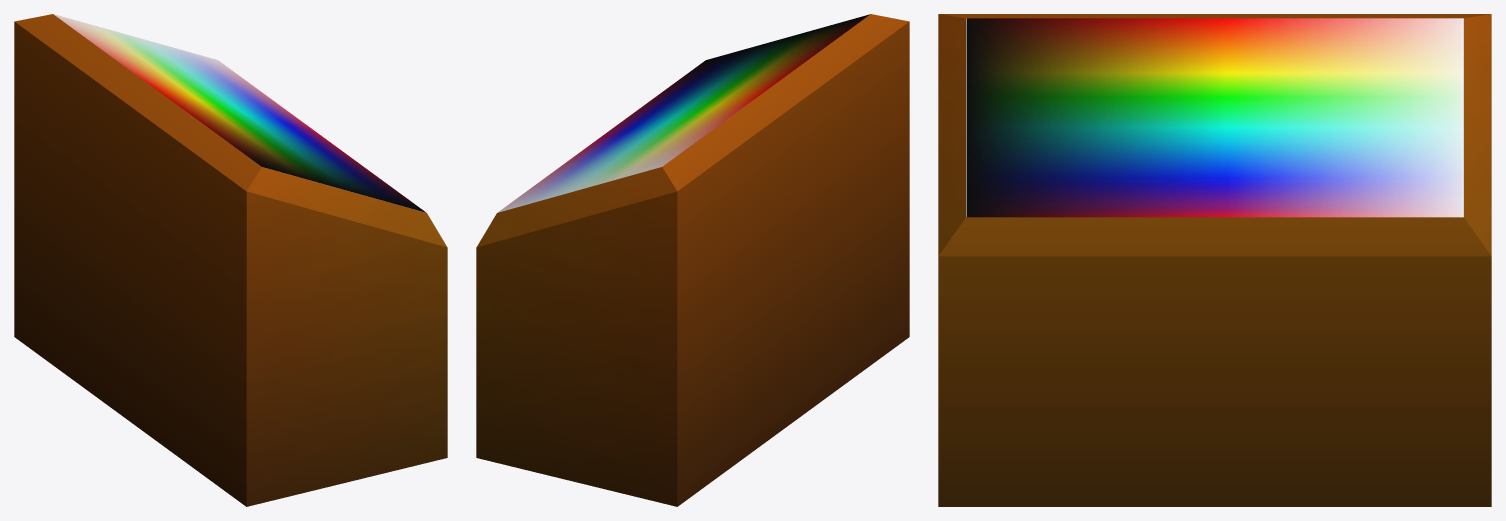
The model's file is exhibit-kiosk-1.FBX.
3 views of the same model, side by side, from view 1: azimuth 30°, elevation 25°; view 2: azimuth 150°, elevation 25°; view 3: azimuth 270°, elevation 25° (orthographic). The views are drawn at different scales.
Parts seen in each view (by area): view 1: kiosk; view 2: kiosk; view 3: kiosk.
Boxes of the visible parts, left/top/right/bottom form: kiosk: left=14, top=14, right=447, bottom=506; kiosk: left=476, top=14, right=909, bottom=506; kiosk: left=938, top=14, right=1491, bottom=506.
Size of the model in its own units: 1 by 2 by 1.54.
Materials: 1 (1 with a texture image).
